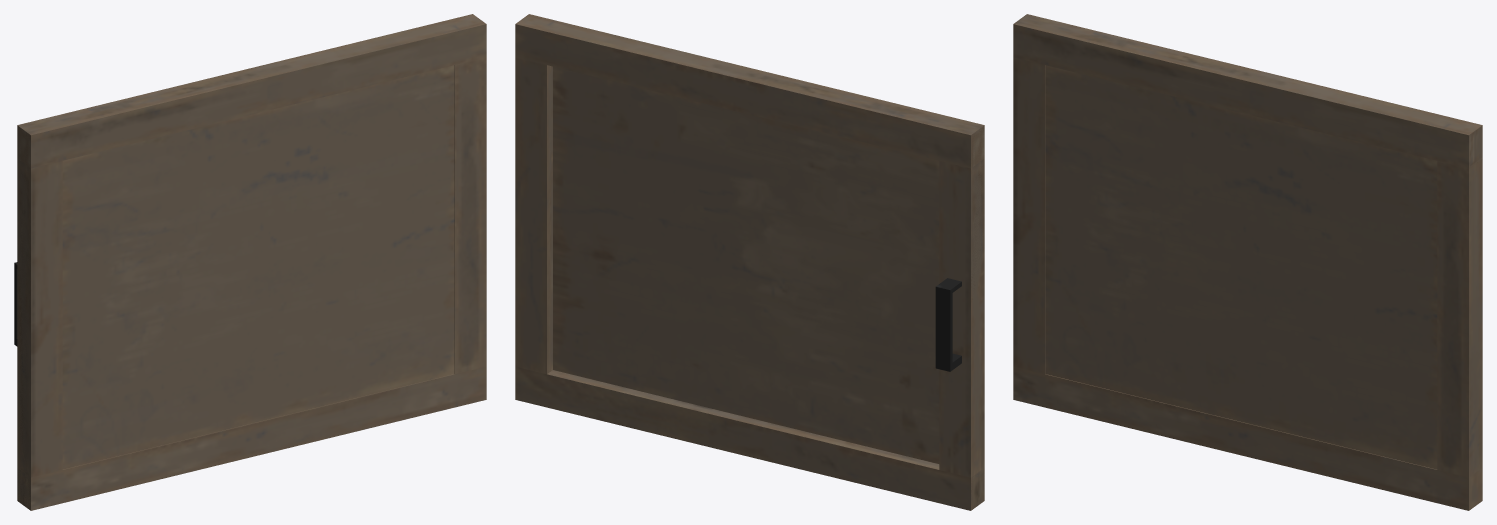
File: SM_RestroomDresserDoorLeft.fbx
3 views of the same model, side by side, from view 1: azimuth 30°, elevation 25°; view 2: azimuth 150°, elevation 25°; view 3: azimuth 330°, elevation 25° (orthographic).
Parts seen in each view (by area): view 1: SM_RestroomDresserDoorLeft_LOD0; view 2: SM_RestroomDresserDoorLeft_LOD0; view 3: SM_RestroomDresserDoorLeft_LOD0.
Boxes of the visible parts, bbox=[...] form: SM_RestroomDresserDoorLeft_LOD0: bbox=[14, 14, 486, 510]; SM_RestroomDresserDoorLeft_LOD0: bbox=[515, 14, 984, 510]; SM_RestroomDresserDoorLeft_LOD0: bbox=[1013, 14, 1482, 510].
Size of the model in its own units: 95 by 9.25 by 74.84.
